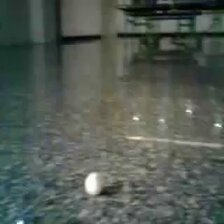w: (84, 171, 103, 194)
